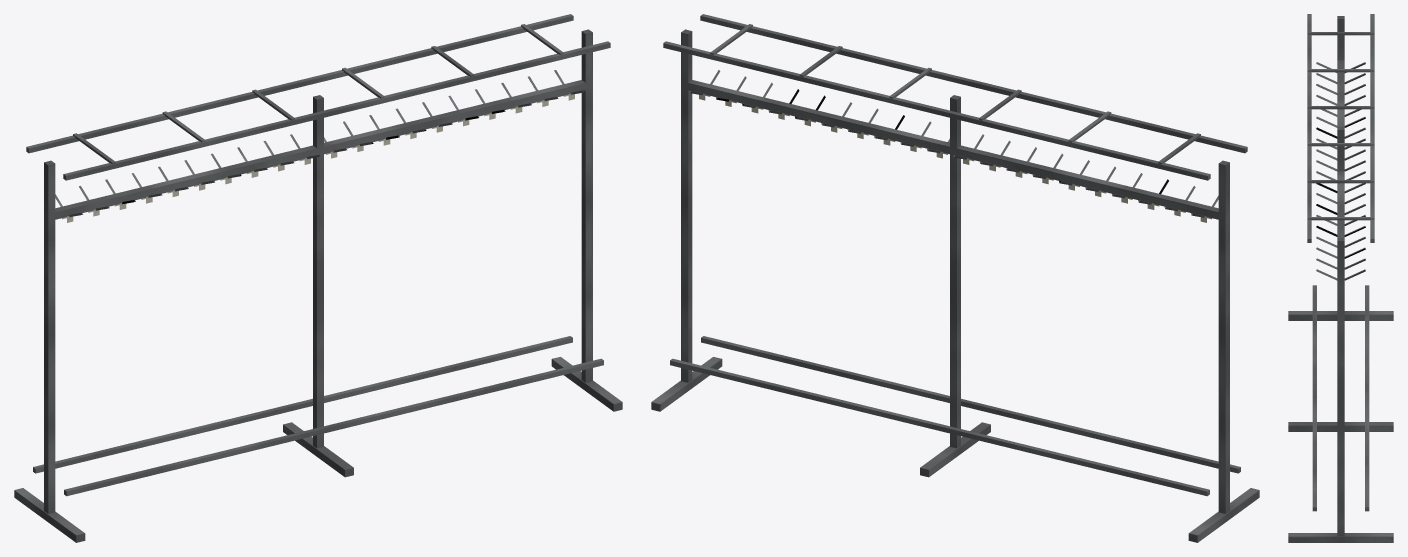
Rendered from Cloakroom_Rack.fbx.
The picture shows the model from 3 angles, left to right: view 1: azimuth 30°, elevation 25°; view 2: azimuth 150°, elevation 25°; view 3: azimuth 270°, elevation 25°; orthographic projection. The views are drawn at different scales.
Parts seen in each view (by area): view 1: вешалка гардероб; view 2: вешалка гардероб; view 3: вешалка гардероб.
Part boxes in pixels (x1,y1,x2,y2): вешалка гардероб: [14, 14, 622, 542]; вешалка гардероб: [651, 14, 1259, 542]; вешалка гардероб: [1288, 14, 1393, 542].
Bounding box in the file's own units: 3.05 × 1.92 × 0.6.
1 material, 1 textured.
